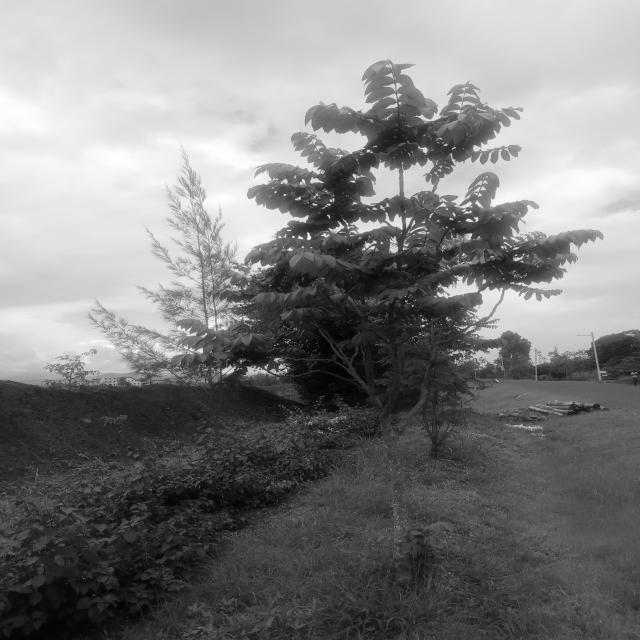Polyscias Kikuyensis: (165, 52, 613, 592)
